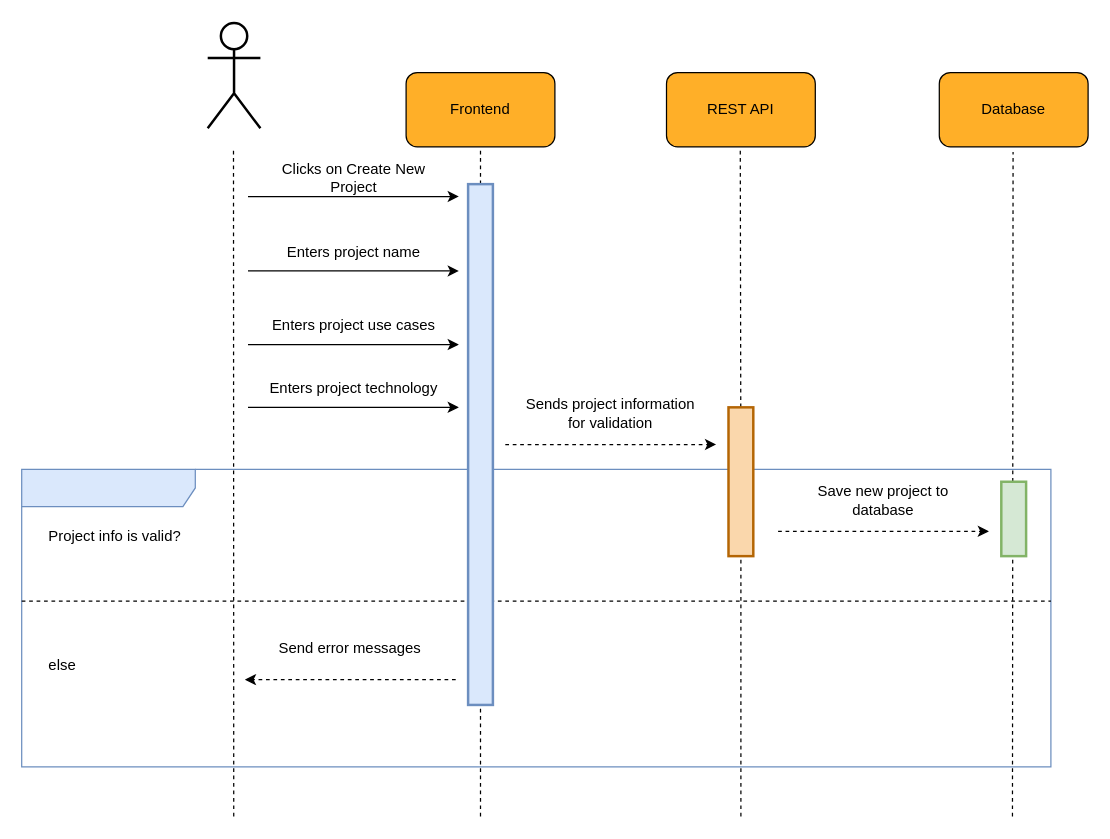
This 1110x839 diagram has some shape labels left out. Each missing label, with the box of its shape:
Alternative: (20, 468, 1051, 767)
Manager: (206, 21, 261, 129)
